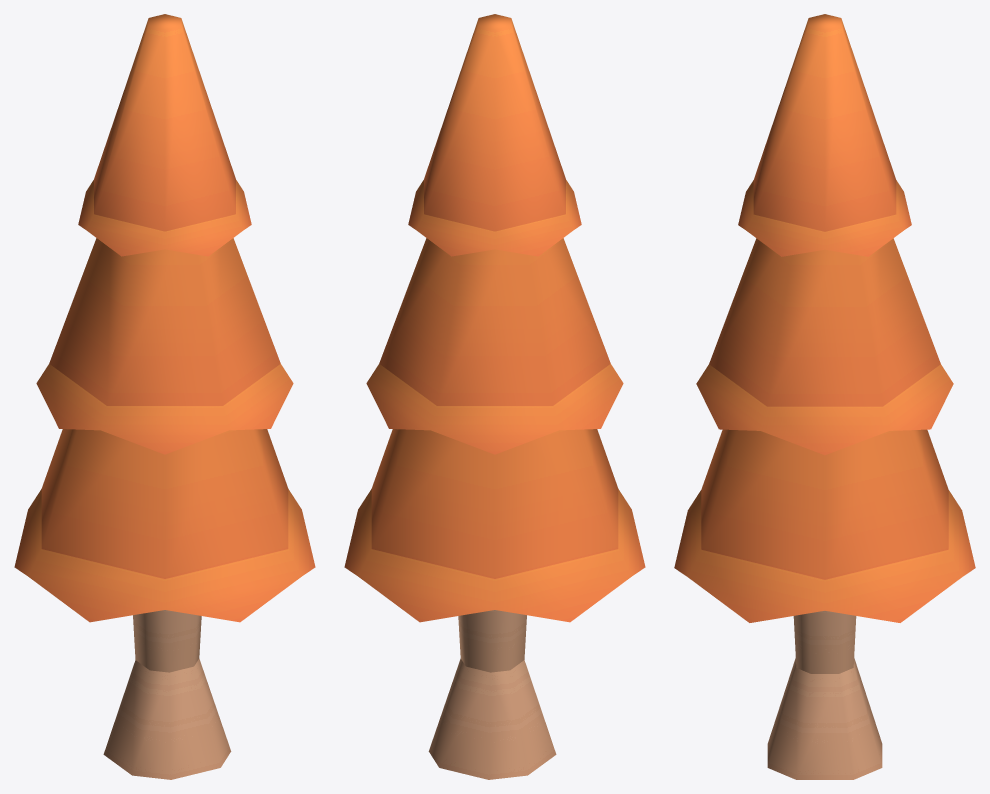
File: tree-autumn_lev3.glb
3 views of the same model, side by side, from view 1: azimuth 30°, elevation 25°; view 2: azimuth 150°, elevation 25°; view 3: azimuth 270°, elevation 25° (orthographic).
Parts seen in each view (by area): view 1: tree-autumn_lev3; view 2: tree-autumn_lev3; view 3: tree-autumn_lev3.
Boxes of the visible parts, left/top/right/bottom form: tree-autumn_lev3: left=14, top=14, right=315, bottom=779; tree-autumn_lev3: left=344, top=14, right=645, bottom=779; tree-autumn_lev3: left=674, top=14, right=975, bottom=779.
Size of the model in its own units: 3.3 by 8.42 by 3.14.
1 material, 1 textured.
